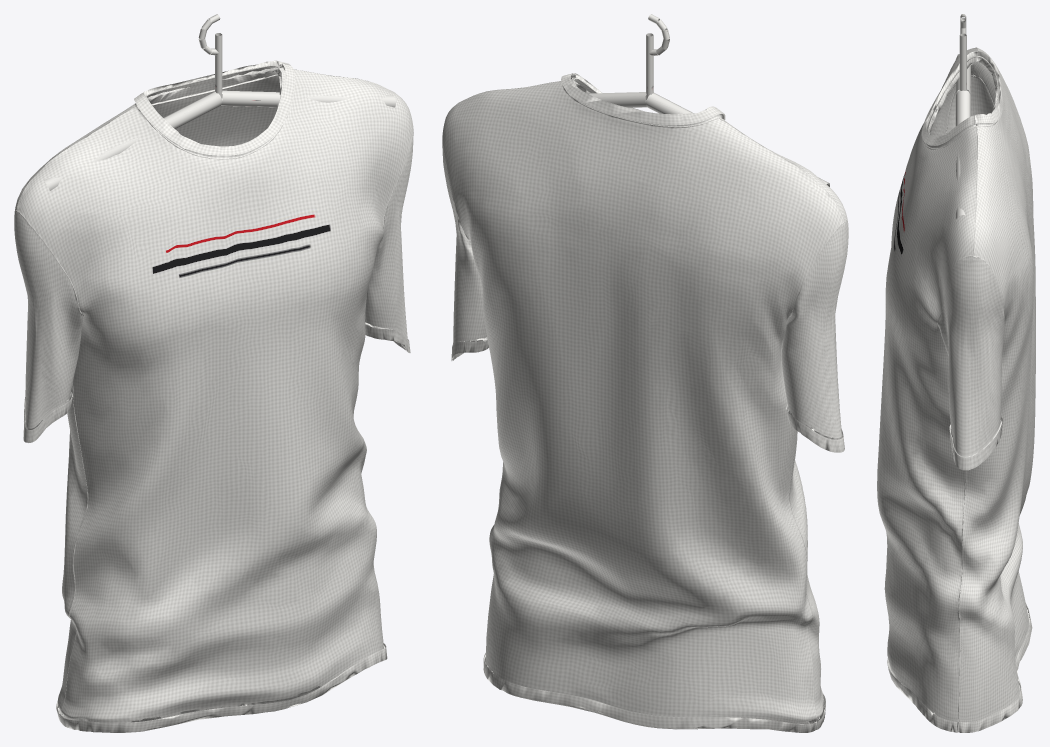
The model's file is rack-tee-white.glb.
The picture shows the model from 3 angles, left to right: view 1: azimuth 30°, elevation 25°; view 2: azimuth 150°, elevation 25°; view 3: azimuth 270°, elevation 25°; orthographic projection. The views are drawn at different scales.
Visible parts, largest first — view 1: HangingGarment; view 2: HangingGarment; view 3: HangingGarment.
Boxes of the visible parts, left/top/right/bottom form: HangingGarment: left=14, top=14, right=413, bottom=732; HangingGarment: left=442, top=14, right=848, bottom=732; HangingGarment: left=877, top=14, right=1035, bottom=732.
Size of the model in its own units: 0.4214 by 0.6904 by 0.1546.
1 material, 1 textured.
